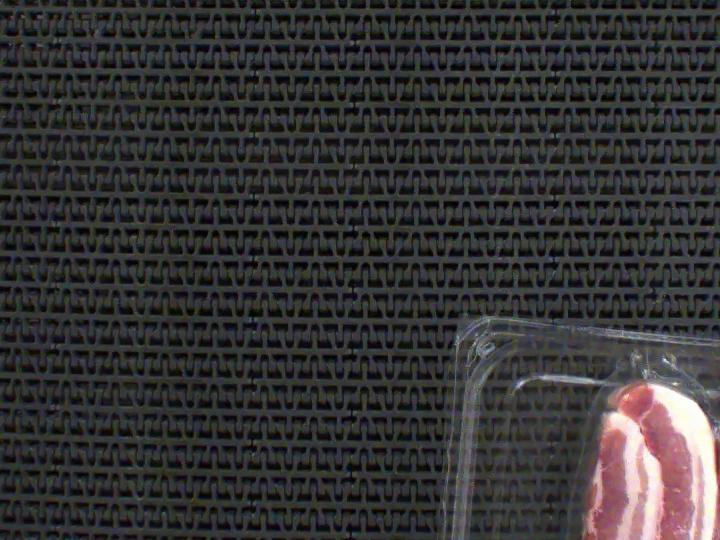unsealed: (565, 335, 720, 505)
